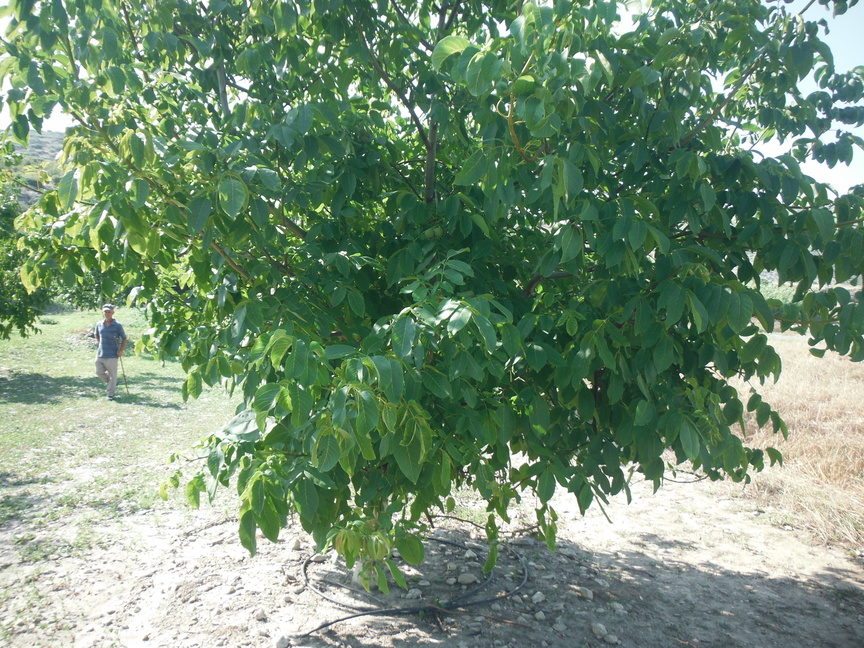walnut: (423, 226, 436, 239), (433, 225, 446, 238), (325, 262, 339, 272), (358, 127, 367, 137), (361, 134, 368, 145), (366, 130, 372, 137)
